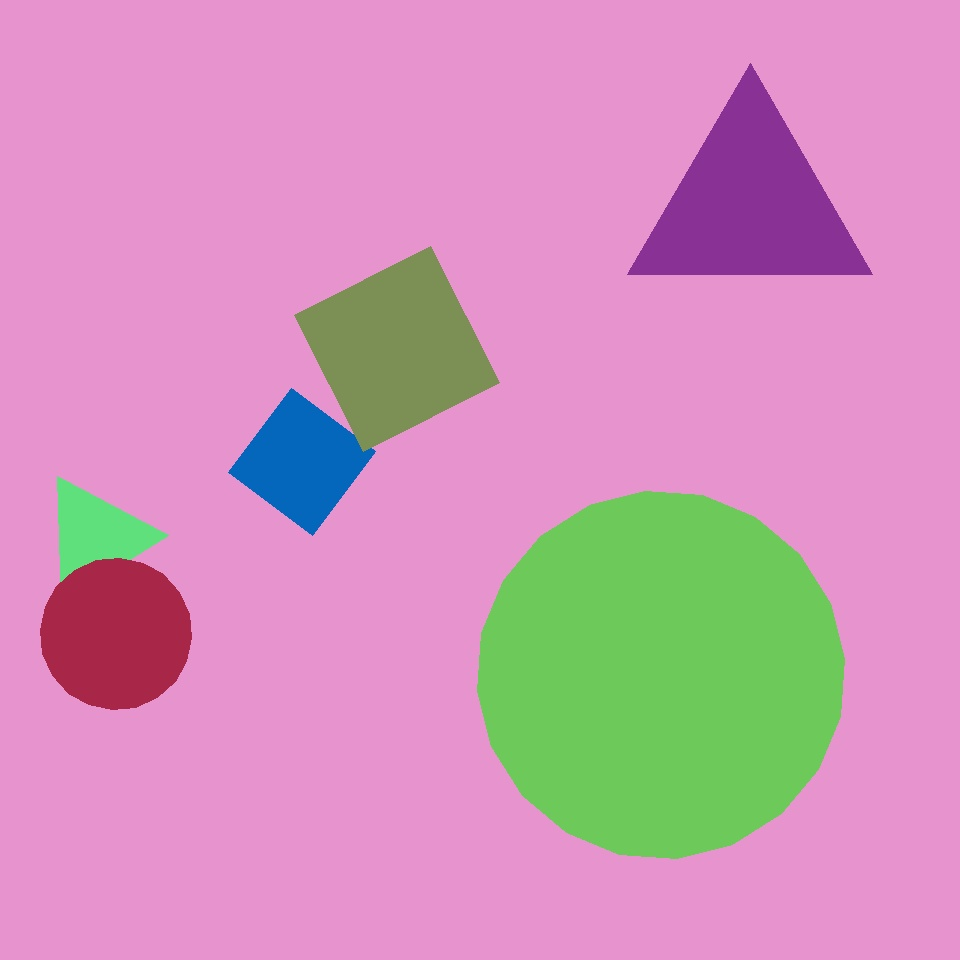circle: (628, 98, 872, 310), (40, 475, 152, 601)
square: (174, 224, 525, 575), (222, 199, 466, 443), (294, 246, 499, 451), (43, 446, 222, 625), (228, 388, 376, 536), (233, 130, 381, 277)
triangle: (478, 492, 845, 858), (47, 423, 348, 725), (40, 558, 192, 710)
